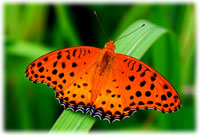Argyreus hyperbius: (24, 9, 185, 123)
butterfly: (23, 9, 184, 123)
